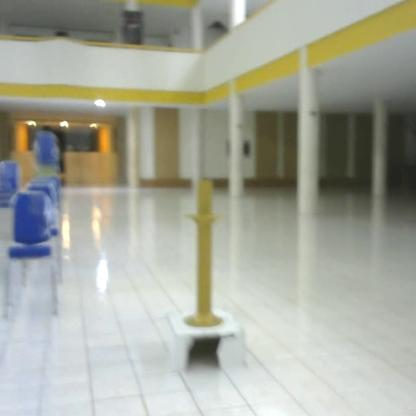pole: (178, 173, 235, 334)
